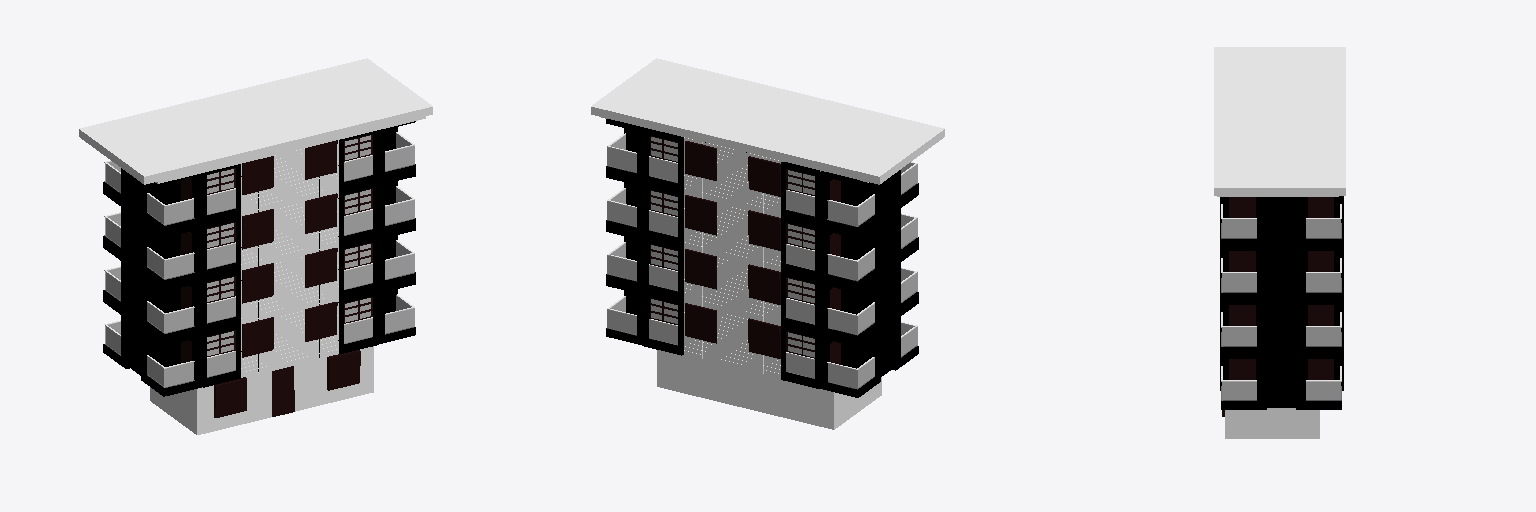
The model's file is building.obj.
3 renders of one model, left to right at view 1: azimuth 30°, elevation 25°; view 2: azimuth 150°, elevation 25°; view 3: azimuth 270°, elevation 25°, orthographic.
Parts seen in each view (by area): view 1: group3 pCube49, pCube50 group3, group3 tam_kat group1 polySurface1 ceyrek_kat1, group3 tam_kat1 group1 polySurface1 ceyrek_kat1, group3 tam_kat2 group1 polySurface1 ceyrek_kat1, group3 tam_kat3 group1 polySurface1 ceyrek_kat1, group3 tam_kat group1 ceyrek_kat1 pCube18, group3 tam_kat2 group1 ceyrek_kat1 pCube18, group3 tam_kat1 group1 ceyrek_kat1 pCube18, group3 tam_kat2 polySurface1 ceyrek_kat group1, group3 tam_kat1 polySurface1 ceyrek_kat group1, group3 tam_kat polySurface1 ceyrek_kat group1 (+28 smaller); view 2: group3 pCube49, pCube50 group3, group3 polySurface1 ceyrek_kat group2 tam_kat3, group3 polySurface1 ceyrek_kat group2 tam_kat2, group3 polySurface1 ceyrek_kat group2 tam_kat, group3 polySurface1 ceyrek_kat group2 tam_kat1, group3 group2 tam_kat polySurface1 ceyrek_kat1, group3 group2 tam_kat1 polySurface1 ceyrek_kat1, group3 group2 tam_kat1 ceyrek_kat1 pCube18, group3 group2 tam_kat ceyrek_kat1 pCube18, group3 group2 tam_kat2 polySurface1 ceyrek_kat1, group3 group2 tam_kat2 ceyrek_kat1 pCube18 (+28 smaller); view 3: group3 pCube49, pCube50 group3, group3 tam_kat1 ceyrek_kat group1 pCube18, group3 ceyrek_kat group2 tam_kat1 pCube18, group3 tam_kat2 ceyrek_kat group1 pCube18, group3 tam_kat ceyrek_kat group1 pCube18, group3 ceyrek_kat group2 tam_kat2 pCube18, group3 ceyrek_kat group2 tam_kat pCube18, group3 ceyrek_kat group2 tam_kat2 polySurface2, group3 ceyrek_kat group2 tam_kat polySurface2, group3 ceyrek_kat group2 tam_kat1 polySurface2, group3 tam_kat3 ceyrek_kat group1 pCube18 (+22 smaller).
Boxes of the visible parts, box(x1,y1,x2,y2) form: group3 pCube49: box(79, 58, 432, 184); pCube50 group3: box(150, 346, 373, 434); group3 tam_kat group1 polySurface1 ceyrek_kat1: box(241, 308, 297, 376); group3 tam_kat1 group1 polySurface1 ceyrek_kat1: box(241, 255, 297, 322); group3 tam_kat2 group1 polySurface1 ceyrek_kat1: box(241, 201, 297, 268); group3 tam_kat3 group1 polySurface1 ceyrek_kat1: box(241, 150, 297, 213); group3 tam_kat group1 ceyrek_kat1 pCube18: box(141, 326, 201, 396); group3 tam_kat2 group1 ceyrek_kat1 pCube18: box(141, 218, 201, 287); group3 tam_kat1 group1 ceyrek_kat1 pCube18: box(141, 272, 201, 342); group3 tam_kat2 polySurface1 ceyrek_kat group1: box(280, 191, 338, 258); group3 tam_kat1 polySurface1 ceyrek_kat group1: box(280, 244, 338, 312); group3 tam_kat polySurface1 ceyrek_kat group1: box(280, 299, 338, 366); group3 pCube49: box(591, 58, 944, 184); pCube50 group3: box(657, 350, 881, 429); group3 polySurface1 ceyrek_kat group2 tam_kat3: box(684, 137, 741, 205); group3 polySurface1 ceyrek_kat group2 tam_kat2: box(684, 192, 741, 259); group3 polySurface1 ceyrek_kat group2 tam_kat: box(684, 300, 741, 368); group3 polySurface1 ceyrek_kat group2 tam_kat1: box(684, 246, 741, 313); group3 group2 tam_kat polySurface1 ceyrek_kat1: box(725, 311, 780, 377); group3 group2 tam_kat1 polySurface1 ceyrek_kat1: box(725, 257, 780, 323); group3 group2 tam_kat1 ceyrek_kat1 pCube18: box(820, 274, 880, 343); group3 group2 tam_kat ceyrek_kat1 pCube18: box(820, 328, 880, 397); group3 group2 tam_kat2 polySurface1 ceyrek_kat1: box(725, 202, 780, 269); group3 group2 tam_kat2 ceyrek_kat1 pCube18: box(820, 220, 880, 289); group3 pCube49: box(1214, 47, 1345, 195); pCube50 group3: box(1225, 408, 1319, 438); group3 tam_kat1 ceyrek_kat group1 pCube18: box(1221, 301, 1266, 355); group3 ceyrek_kat group2 tam_kat1 pCube18: box(1296, 301, 1341, 355); group3 tam_kat2 ceyrek_kat group1 pCube18: box(1221, 246, 1266, 300); group3 tam_kat ceyrek_kat group1 pCube18: box(1221, 356, 1266, 409); group3 ceyrek_kat group2 tam_kat2 pCube18: box(1296, 246, 1341, 300); group3 ceyrek_kat group2 tam_kat pCube18: box(1296, 356, 1341, 409); group3 ceyrek_kat group2 tam_kat2 polySurface2: box(1281, 244, 1336, 298); group3 ceyrek_kat group2 tam_kat polySurface2: box(1281, 353, 1336, 407); group3 ceyrek_kat group2 tam_kat1 polySurface2: box(1281, 299, 1336, 352); group3 tam_kat3 ceyrek_kat group1 pCube18: box(1221, 197, 1266, 246).
Bounding box in the file's own units: 218 × 200 × 86.11.